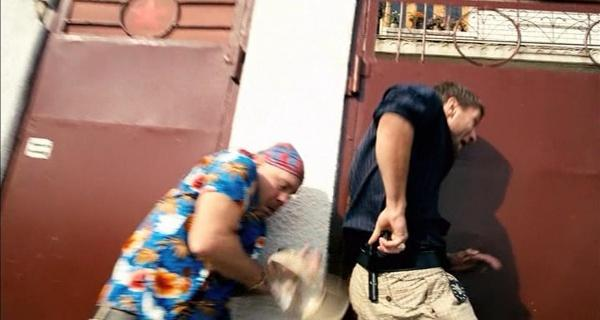Gun: (364, 232, 392, 303)
